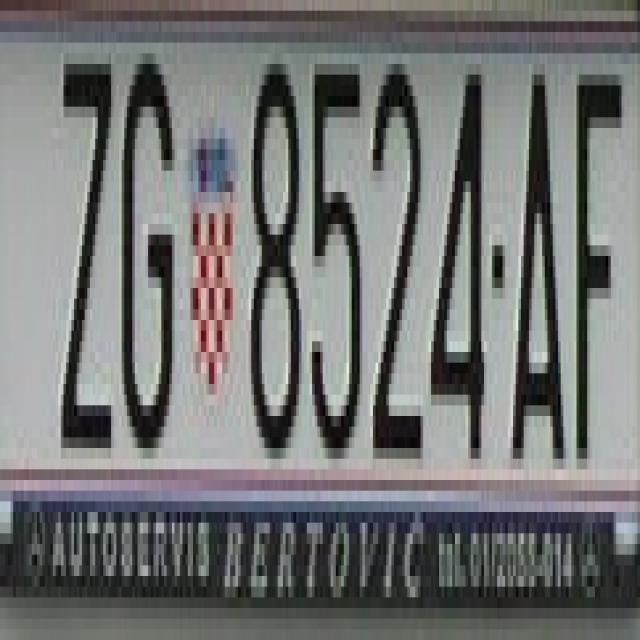2: (370, 85, 423, 448)
4: (428, 74, 484, 458)
5: (304, 53, 360, 448)
8: (251, 53, 296, 448)
A: (513, 74, 563, 458)
F: (568, 53, 622, 448)
G: (114, 53, 178, 448)
Z: (61, 32, 111, 437)
